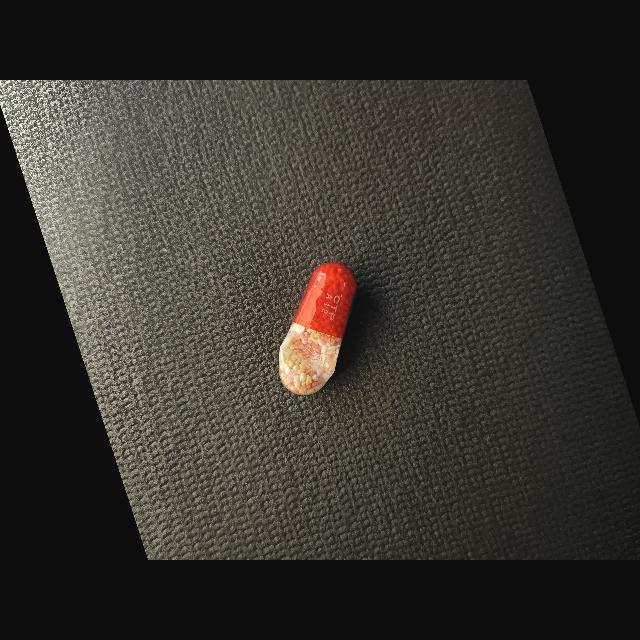Defective Capsule: (279, 262, 356, 395)
